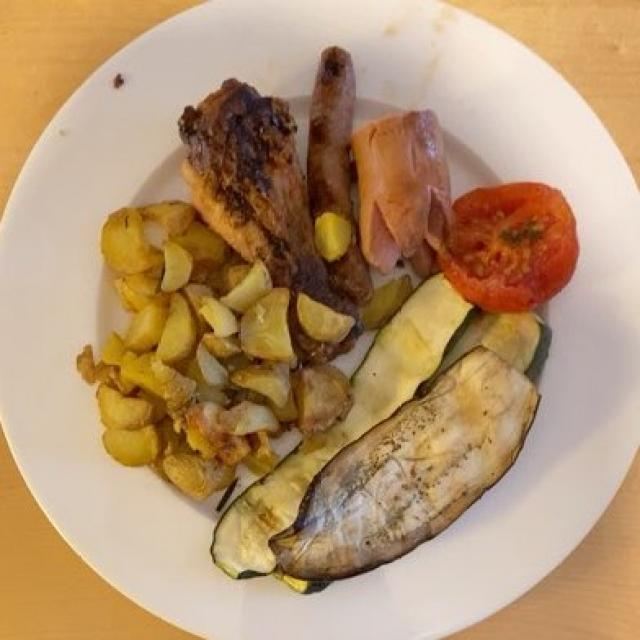cervelat: (351, 116, 457, 283)
chicken: (175, 86, 358, 350)
eggplant: (281, 349, 537, 586)
potatoes: (74, 202, 351, 500)
sausage: (300, 44, 374, 301)
tomato: (444, 188, 580, 309)
zucchini: (226, 280, 553, 593)
